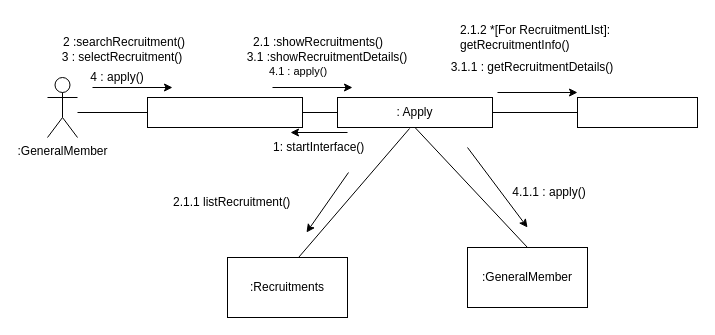
This 715x335 diagram has some shape labels left out. The centre of each missing label's shape, as x and y in pixels:
:ApplyUI: point 224,112
:Recruitment: point 637,112
